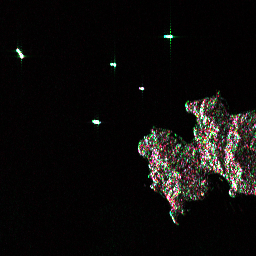ship: (13, 45, 27, 61), (162, 33, 173, 39), (90, 118, 100, 124), (108, 60, 116, 66), (137, 85, 145, 90)
